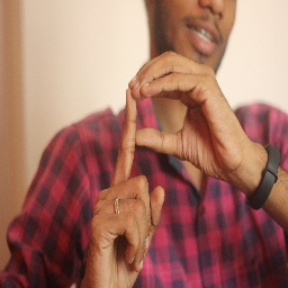P: (93, 48, 238, 252)
